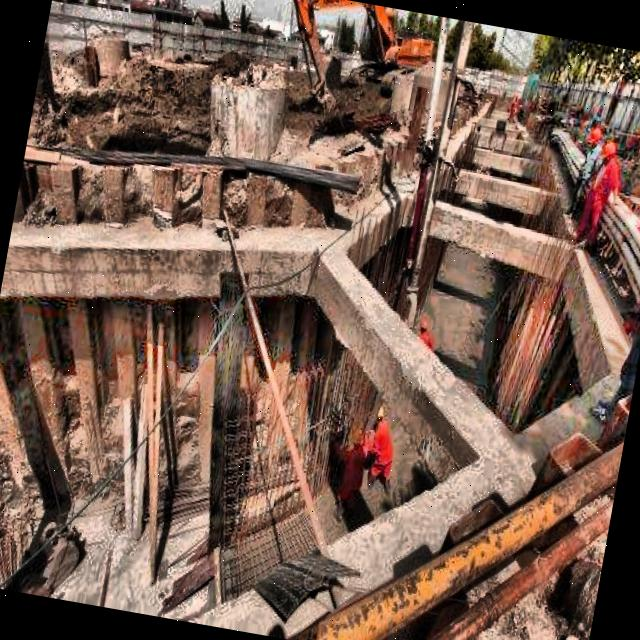helmet: (598, 133, 622, 165), (584, 122, 605, 154)
